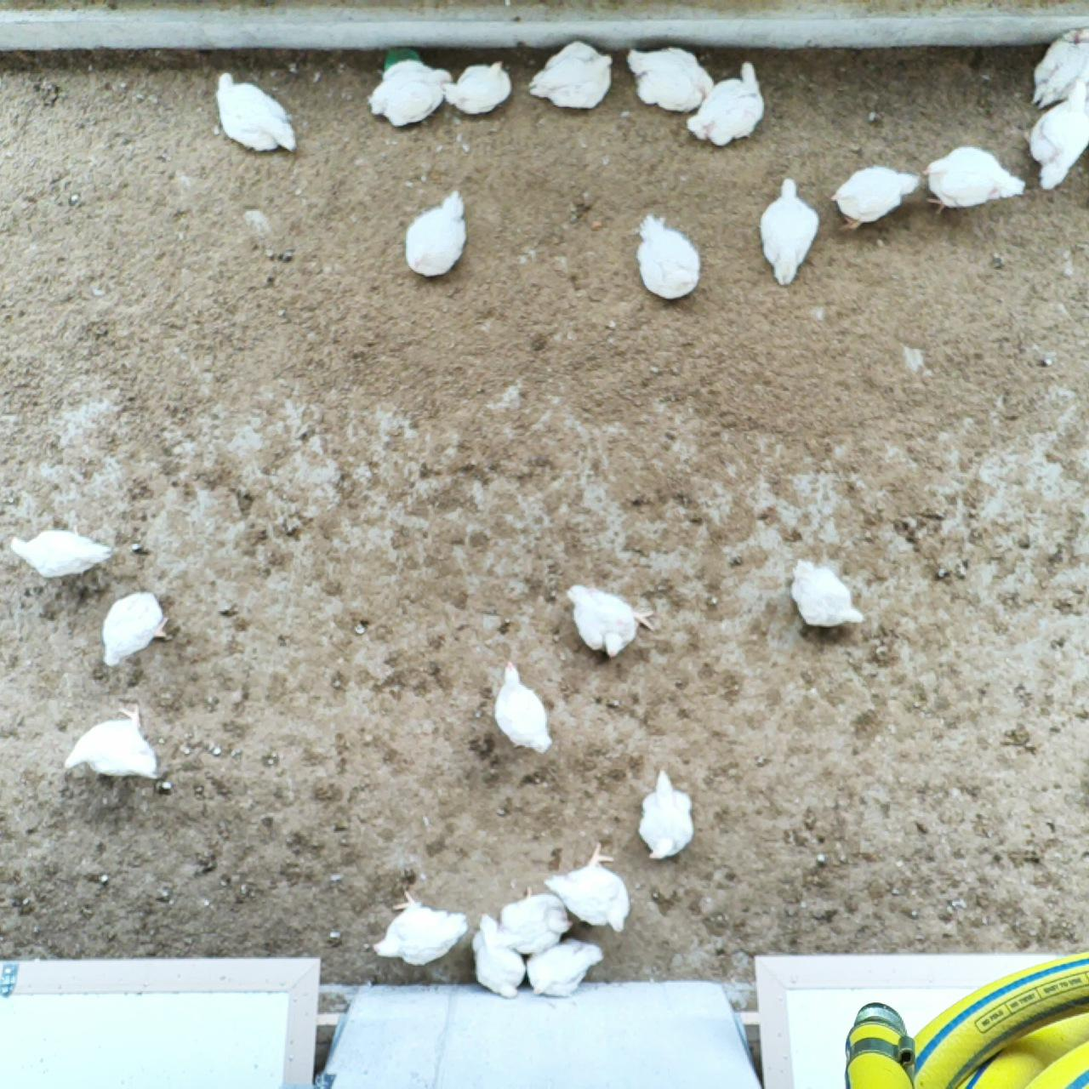chicken: (544, 846, 634, 936), (62, 701, 160, 781), (214, 69, 299, 157), (373, 891, 469, 968), (756, 174, 822, 285), (921, 146, 1027, 215), (686, 57, 769, 144), (565, 582, 658, 659), (399, 185, 473, 281), (631, 209, 705, 302), (93, 584, 170, 672), (1028, 79, 1089, 187), (525, 38, 614, 112), (633, 766, 701, 860), (488, 661, 556, 754), (7, 527, 116, 584), (830, 164, 919, 232), (625, 44, 714, 111), (789, 558, 868, 633), (370, 61, 451, 130), (524, 931, 603, 1001), (469, 915, 528, 998), (498, 888, 572, 953), (438, 60, 514, 118), (1025, 28, 1078, 107), (1038, 27, 1089, 108)
